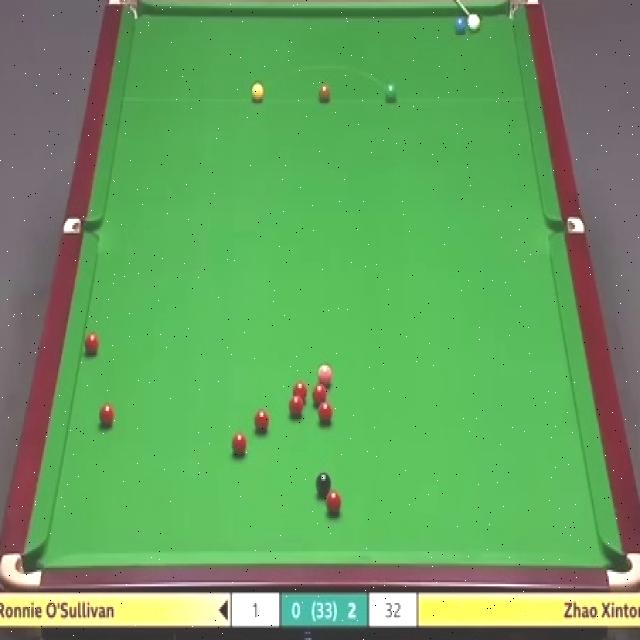black-ball: (315, 471, 330, 495)
blue-ball: (453, 15, 466, 35)
brown-ball: (319, 83, 332, 103)
green-ball: (384, 83, 398, 104)
pink-ball: (318, 364, 332, 390)
red-ball: (230, 430, 248, 458), (318, 400, 333, 428), (253, 407, 269, 433), (312, 381, 328, 407), (83, 332, 100, 356), (293, 380, 308, 407), (326, 490, 342, 514), (100, 403, 113, 427), (289, 395, 303, 416)
white-ball: (468, 12, 481, 33)
yellow-ball: (250, 82, 265, 103)
